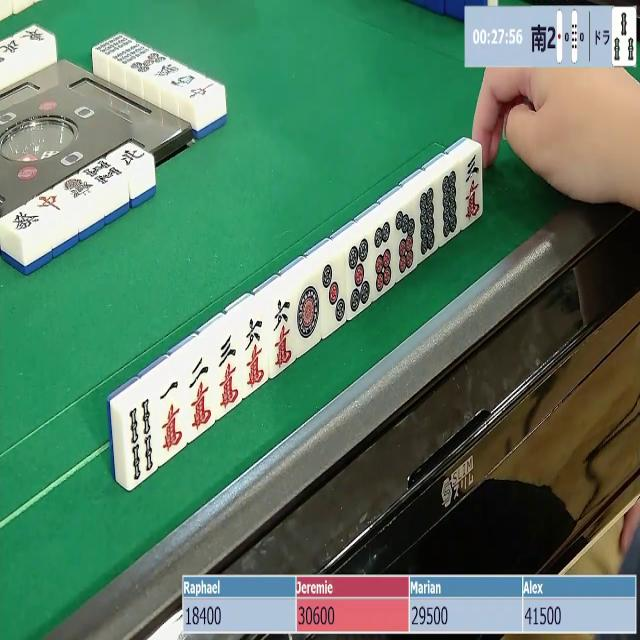m1: (154, 378, 191, 462)
m2: (186, 354, 220, 436)
m3: (214, 331, 246, 414), (459, 148, 481, 225)
m6: (241, 314, 272, 392), (271, 297, 300, 374)
s3: (613, 8, 636, 66)
s4: (124, 396, 160, 489)
t1: (294, 277, 322, 351)
t3: (320, 257, 348, 330)
t5: (346, 238, 372, 317)
t6: (371, 220, 397, 299)
t7: (390, 206, 418, 280)
t8: (417, 186, 439, 260), (437, 168, 460, 238)
